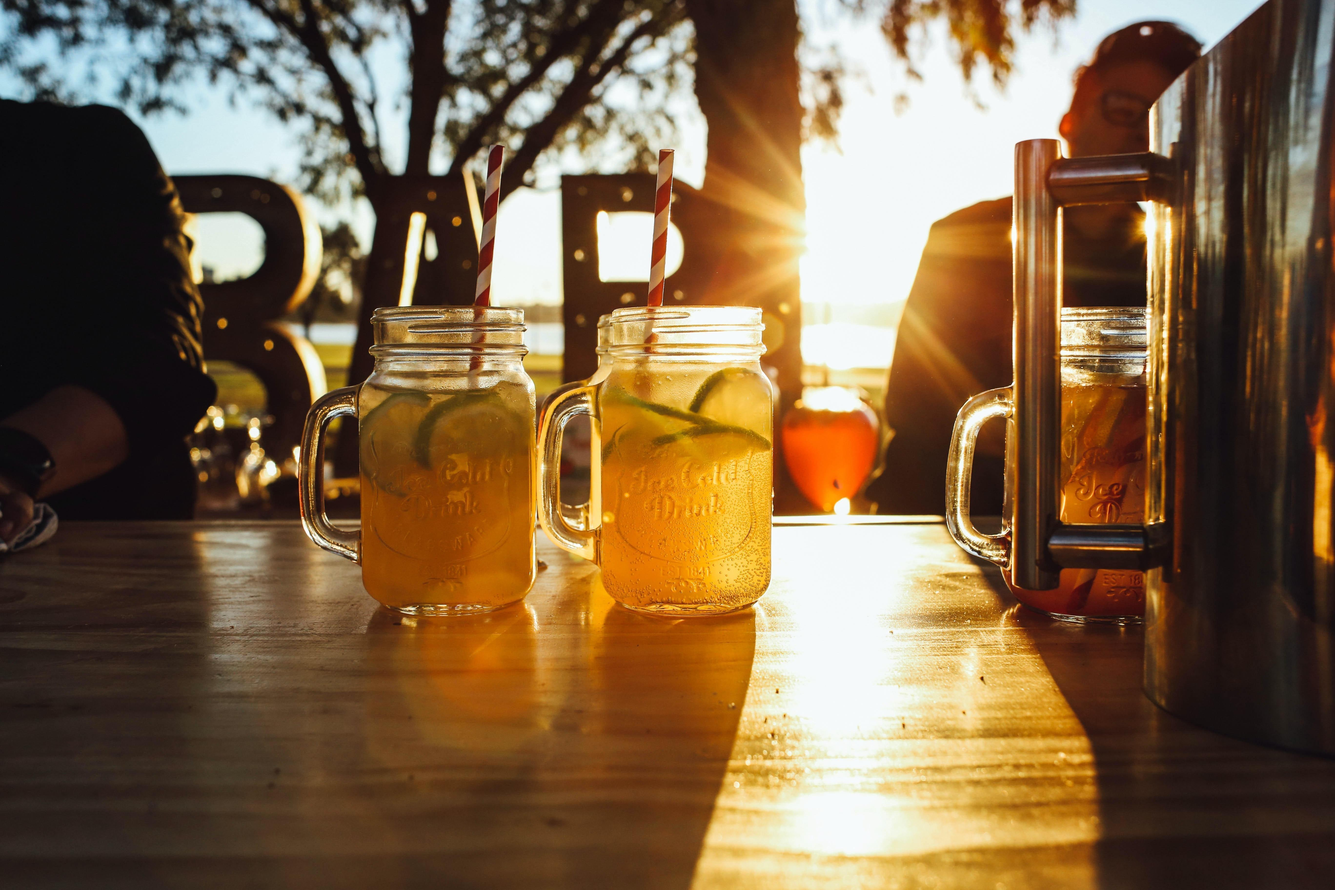glass-mug: (296, 303, 542, 624), (537, 301, 779, 621)
